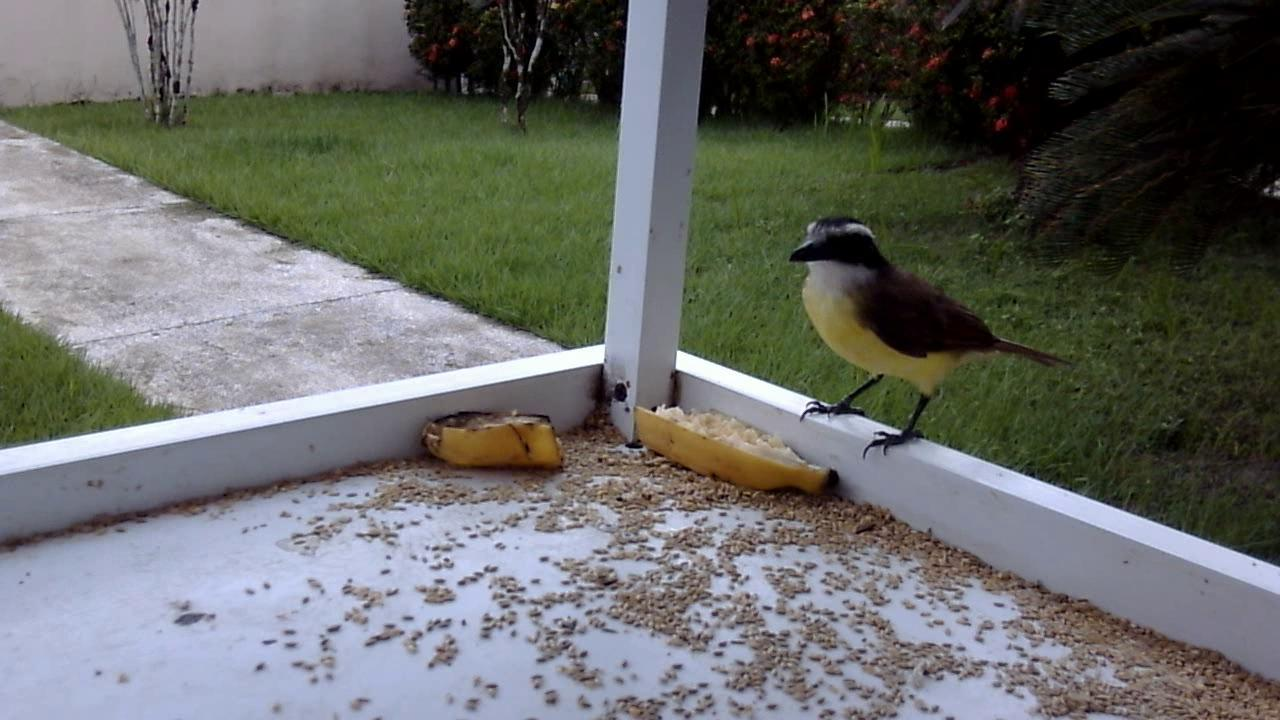bem_te_vi: (772, 205, 1082, 477)
